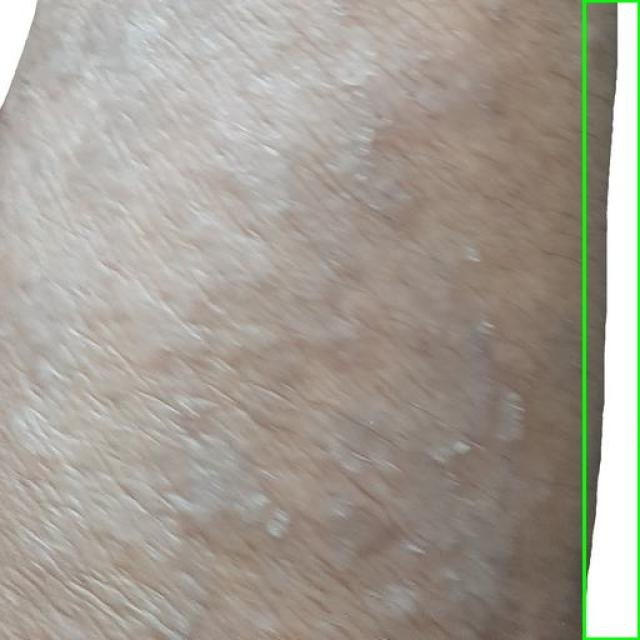Tinea Corporis: (584, 0, 639, 639)
